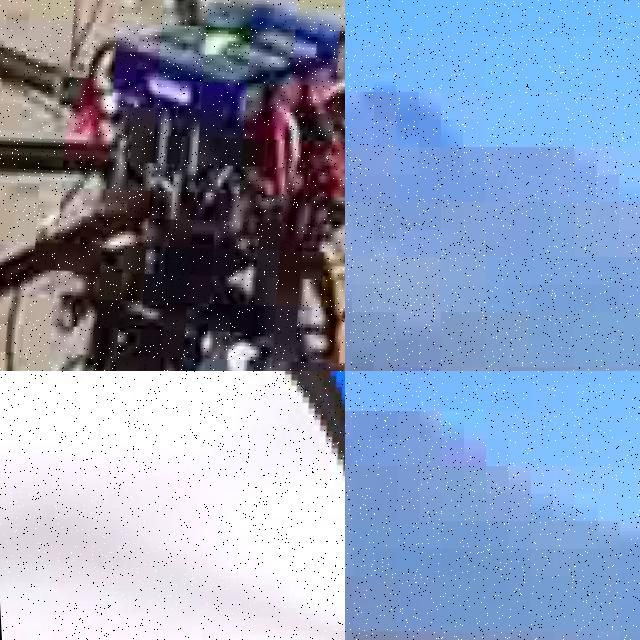drone: (0, 0, 345, 371), (0, 371, 345, 640)
